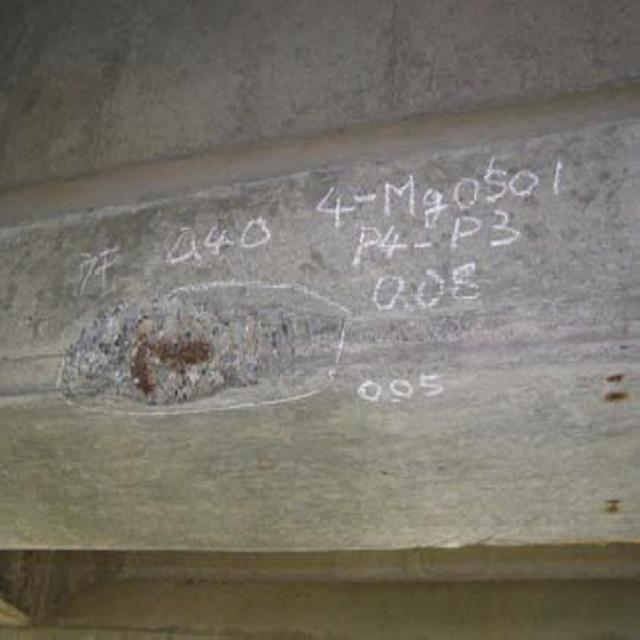spalling: (54, 269, 343, 420)
